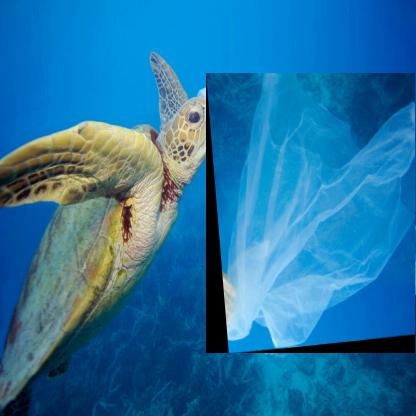plastic-bag: (206, 73, 415, 355)
